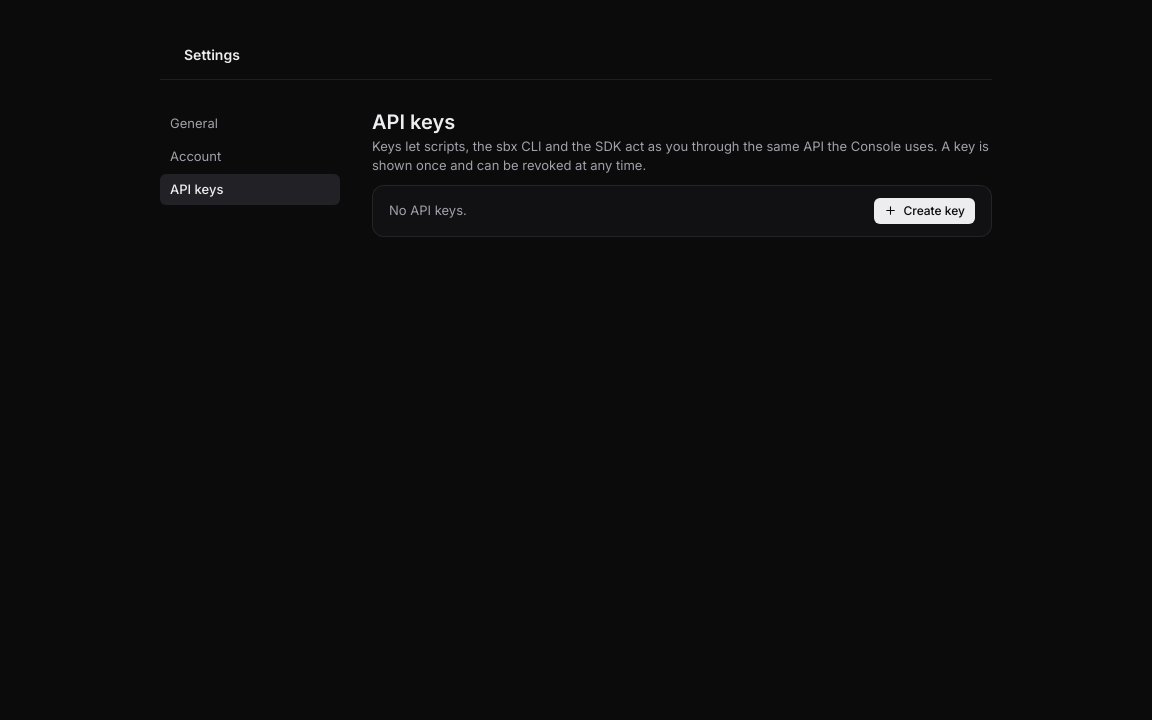
Scenario: API key scopes and retry-safe issuance (#230) › keeps one Idempotency-Key across an uncertain outcome and gets the same key back
Click the button "Create key".
click(925, 211)  # box [874,198,975,224]
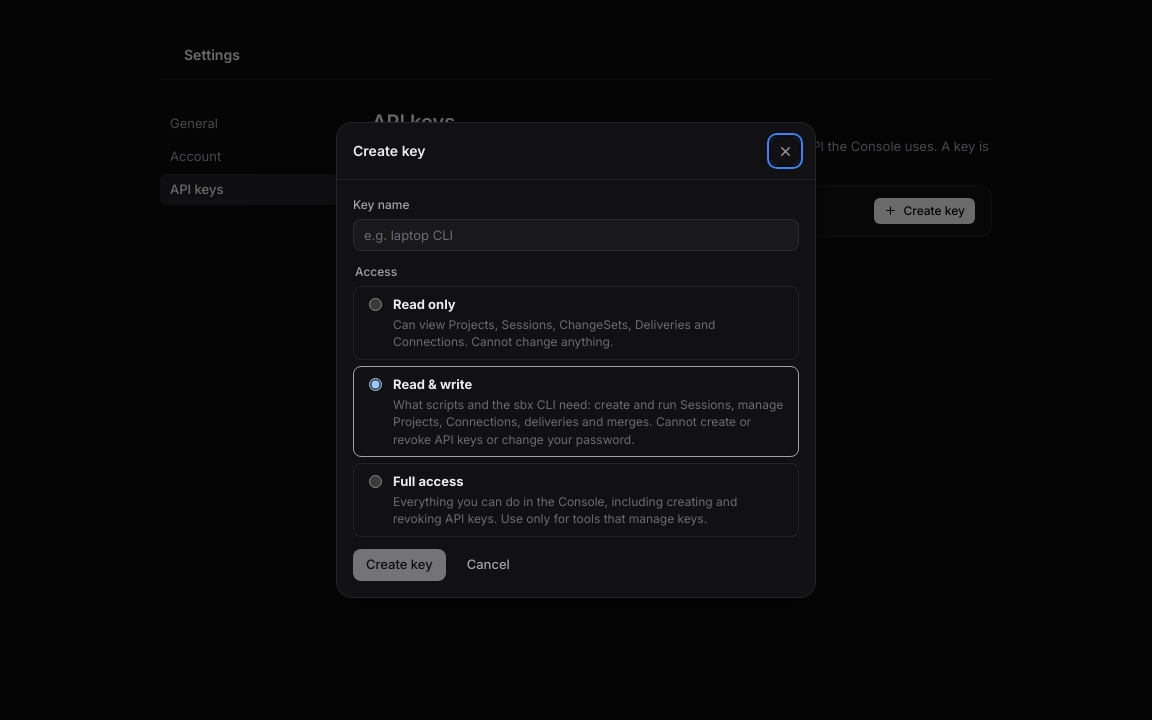
Type "ci" into the field labelled "Key name".
click(576, 235); type("ci")  # box [353,219,799,251]
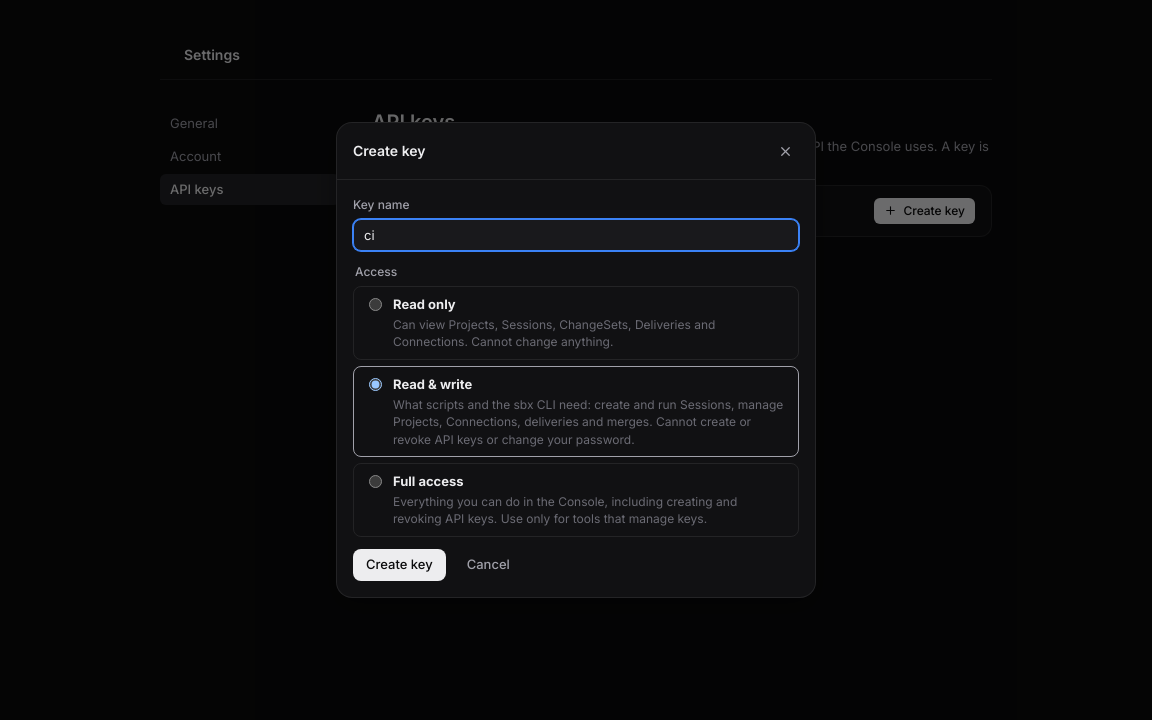
Click the button "Create key".
click(399, 564)  # box [353,548,446,580]
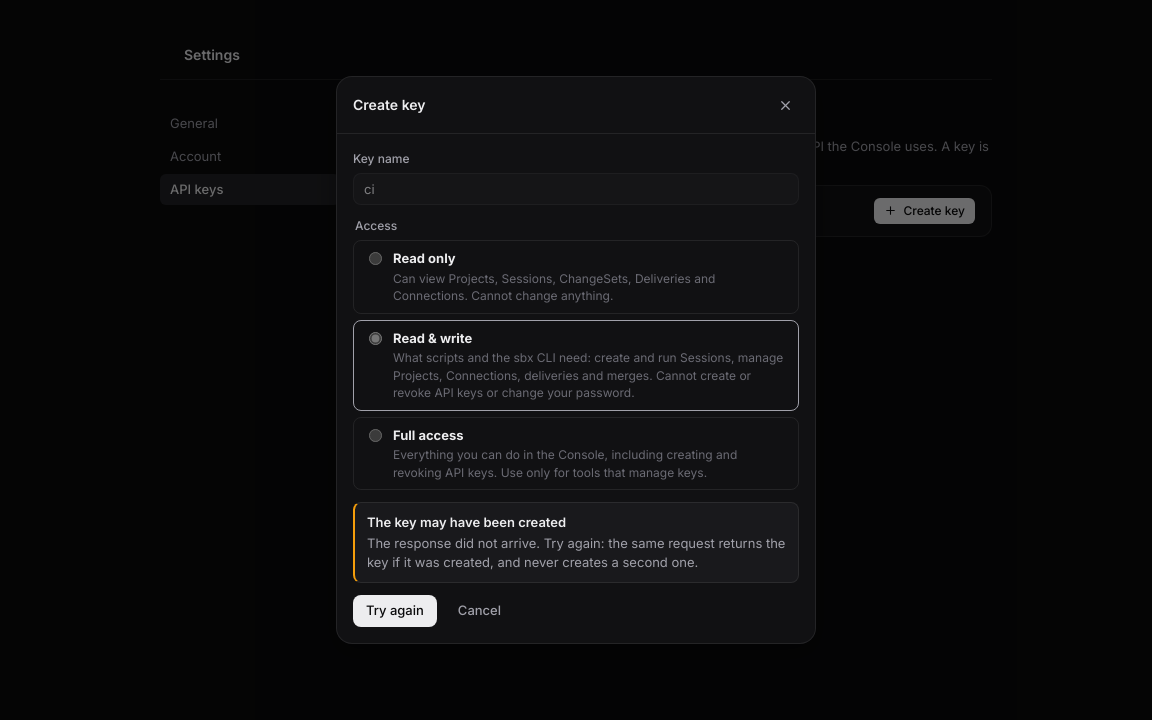
Expected: the radio button labelled "Read only" is disabled, [369,252,382,265]
Expected: the text "The key may have been created" is shown, [367,514,566,530]
Expected: the field labelled "Key name" is disabled, [353,173,799,205]
Click the button "Try again".
click(395, 611)  # box [353,595,437,627]
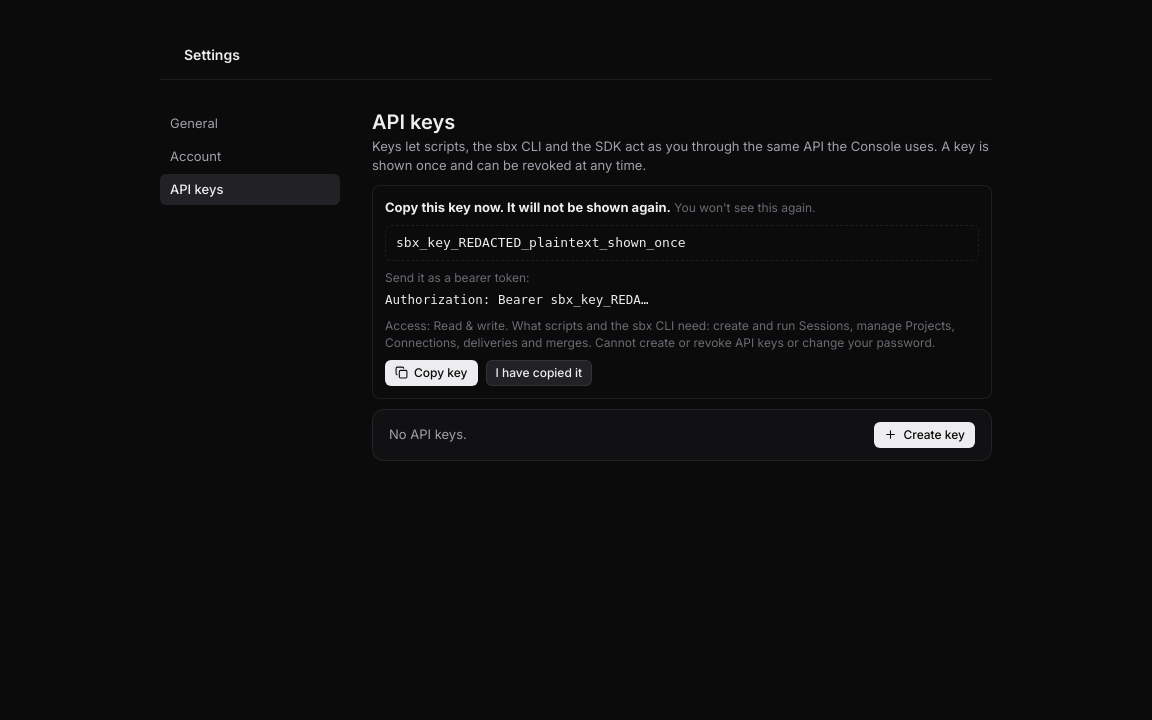
Expected: the message with test id "key-reveal" shows "sbx_key_REDACTED_plaintext_shown_once", [396,234,686,250]
